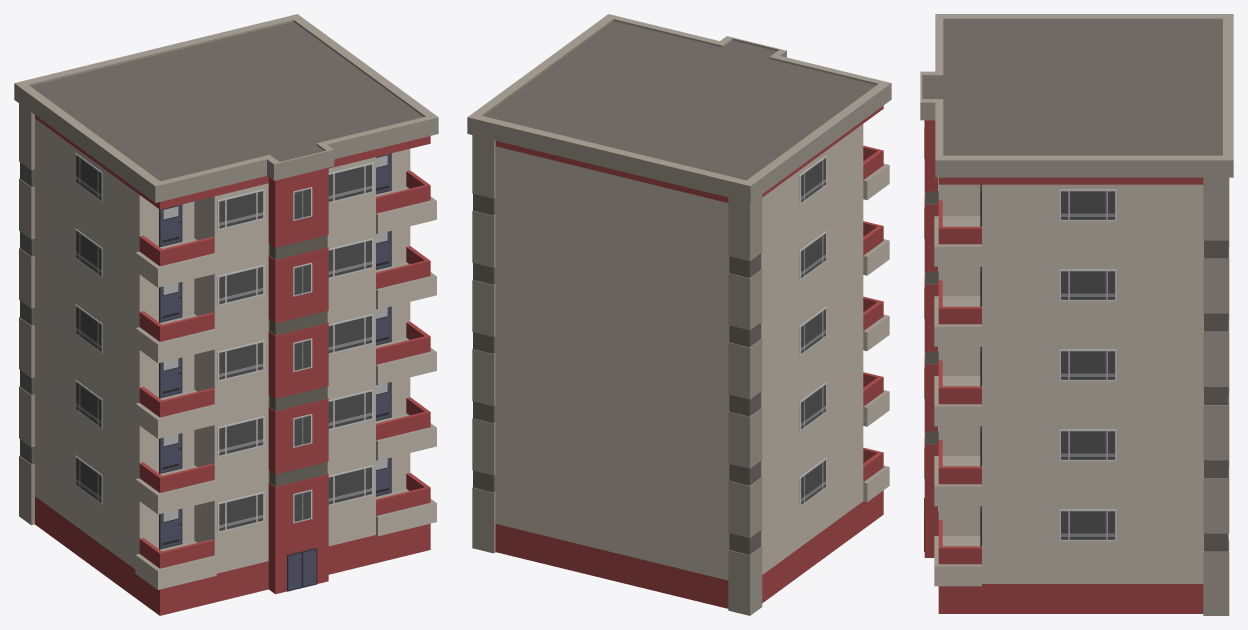
Rendered from building02_color01.fbx.
The picture shows the model from 3 angles, left to right: view 1: azimuth 30°, elevation 25°; view 2: azimuth 150°, elevation 25°; view 3: azimuth 270°, elevation 25°; orthographic projection. The views are drawn at different scales.
Visible parts, largest first — view 1: building02_color01; view 2: building02_color01; view 3: building02_color01.
Boxes of the visible parts, x1=… form: building02_color01: x1=14, y1=14, x2=438, y2=615; building02_color01: x1=467, y1=14, x2=891, y2=615; building02_color01: x1=920, y1=14, x2=1233, y2=615.
Size of the model in its own units: 1751 by 2553 by 1586.
